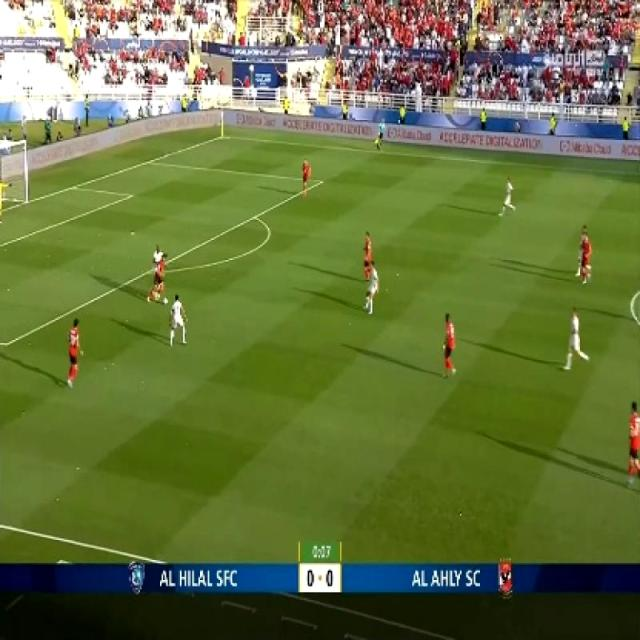bigarea_bottom_inner: (1, 334, 12, 352)
bigarea_top_inner: (317, 174, 325, 184)
bigarea_top_outter: (146, 157, 152, 165)
corner: (217, 132, 226, 138)
smallarea_top_inner: (126, 190, 134, 200)
smallarea_top_outter: (68, 182, 77, 192)
top_arc_area_intersection: (251, 210, 259, 222)
